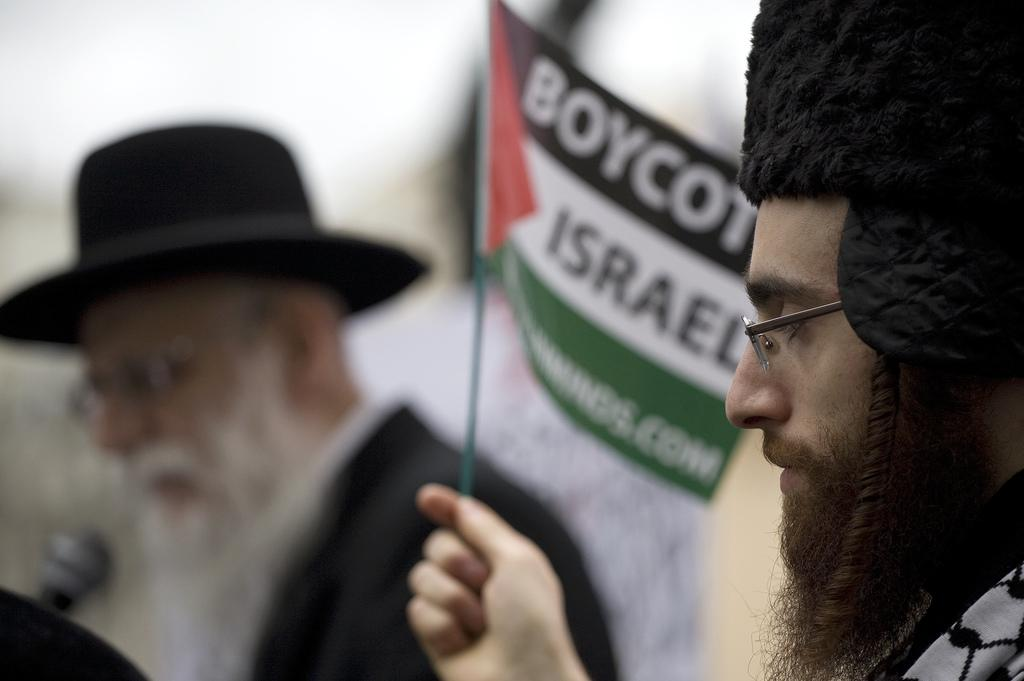Hat: (0, 118, 439, 362)
